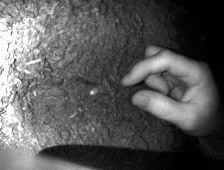corn: (89, 87, 100, 96)
